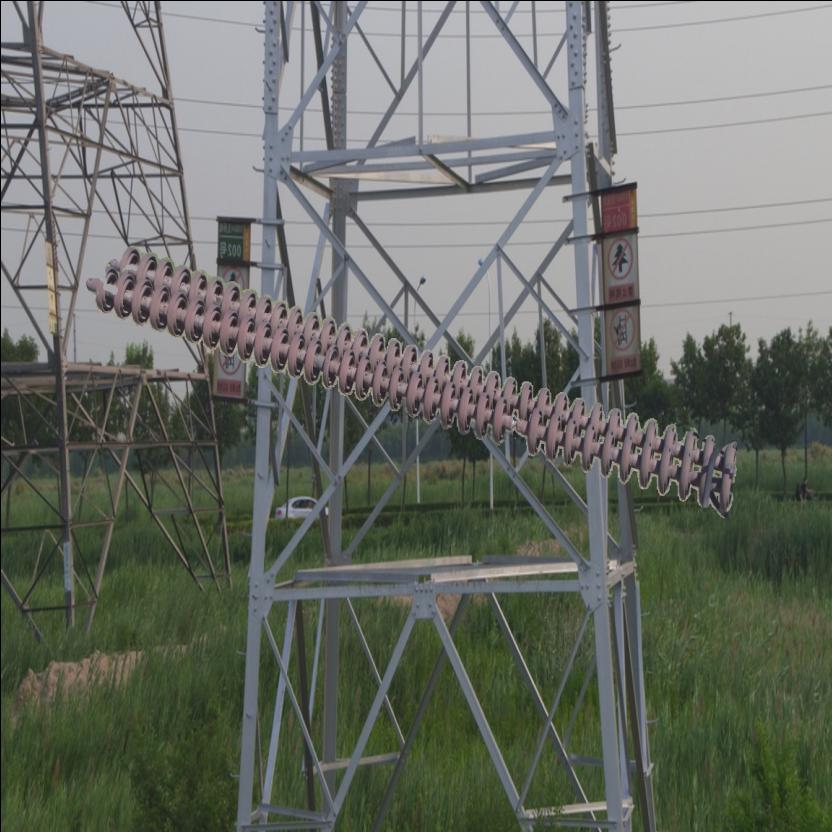defect: (488, 394, 546, 458)
